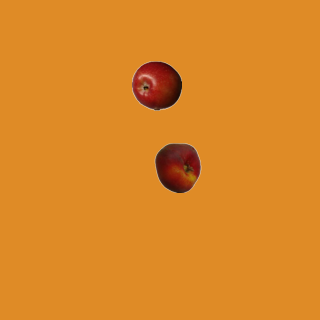Apple Braeburn: (131, 60, 181, 110)
Nectarine Flat: (152, 142, 202, 192)
